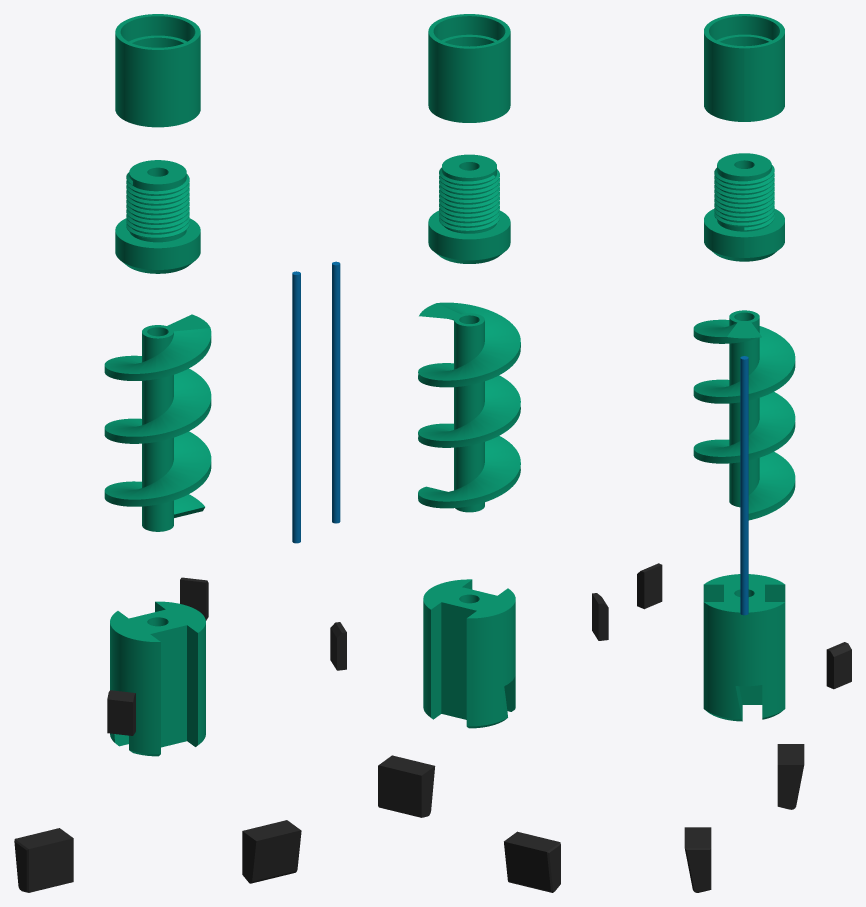
Rendered from drill_bit_exploded.glb.
3 views of the same model, side by side, from view 1: azimuth 30°, elevation 25°; view 2: azimuth 150°, elevation 25°; view 3: azimuth 270°, elevation 25° (orthographic). The views are drawn at different scales.
Parts seen in each view (by area): view 1: Bit_Crown_Body, Sampling_Flight, Joint_Coupling, Bit_Sub_Pin_Thread, Sampling_Root_Shaft, WC_Insert_2, WC_Insert_1, Bit_Sub_Shoulder, Thermocouple_Probe, Gauge_Reamer_Pad_2, Gauge_Reamer_Pad_1; view 2: Bit_Crown_Body, Sampling_Flight, Joint_Coupling, Bit_Sub_Pin_Thread, Sampling_Root_Shaft, WC_Insert_1, WC_Insert_2, Bit_Sub_Shoulder, Thermocouple_Probe, Gauge_Reamer_Pad_1, Gauge_Reamer_Pad_2; view 3: Bit_Crown_Body, Sampling_Flight, Joint_Coupling, Bit_Sub_Pin_Thread, Sampling_Root_Shaft, Bit_Sub_Shoulder, Thermocouple_Probe, WC_Insert_1, WC_Insert_2, Gauge_Reamer_Pad_1, Gauge_Reamer_Pad_2.
Boxes of the visible parts, left/top/right/bottom form: Bit_Crown_Body: left=110, top=601, right=205, bottom=756; Sampling_Flight: left=104, top=314, right=211, bottom=517; Joint_Coupling: left=115, top=14, right=200, bottom=127; Bit_Sub_Pin_Thread: left=126, top=160, right=189, bottom=242; Sampling_Root_Shaft: left=142, top=325, right=173, bottom=531; WC_Insert_2: left=14, top=828, right=73, bottom=892; WC_Insert_1: left=242, top=820, right=301, bottom=883; Bit_Sub_Shoulder: left=115, top=218, right=200, bottom=273; Thermocouple_Probe: left=292, top=271, right=300, bottom=543; Gauge_Reamer_Pad_2: left=107, top=690, right=135, bottom=735; Gauge_Reamer_Pad_1: left=180, top=577, right=208, bottom=620; Bit_Crown_Body: left=423, top=579, right=515, bottom=728; Sampling_Flight: left=418, top=302, right=520, bottom=508; Joint_Coupling: left=428, top=14, right=510, bottom=122; Bit_Sub_Pin_Thread: left=439, top=154, right=499, bottom=233; Sampling_Root_Shaft: left=454, top=313, right=484, bottom=512; WC_Insert_1: left=378, top=755, right=435, bottom=817; WC_Insert_2: left=504, top=831, right=560, bottom=892; Bit_Sub_Shoulder: left=428, top=210, right=510, bottom=263; Thermocouple_Probe: left=332, top=261, right=340, bottom=523; Gauge_Reamer_Pad_1: left=330, top=622, right=346, bottom=670; Gauge_Reamer_Pad_2: left=592, top=593, right=608, bottom=640; Bit_Crown_Body: left=703, top=574, right=785, bottom=721; Sampling_Flight: left=693, top=319, right=795, bottom=520; Joint_Coupling: left=704, top=14, right=784, bottom=121; Bit_Sub_Pin_Thread: left=714, top=153, right=774, bottom=231; Sampling_Root_Shaft: left=729, top=310, right=759, bottom=507; Bit_Sub_Shoulder: left=704, top=209, right=784, bottom=261; Thermocouple_Probe: left=740, top=356, right=748, bottom=615; WC_Insert_1: left=684, top=827, right=711, bottom=892; WC_Insert_2: left=777, top=744, right=804, bottom=809; Gauge_Reamer_Pad_1: left=826, top=642, right=851, bottom=689; Gauge_Reamer_Pad_2: left=637, top=563, right=662, bottom=609.
Size of the model in its own units: 0.0553 by 0.1758 by 0.0422.
